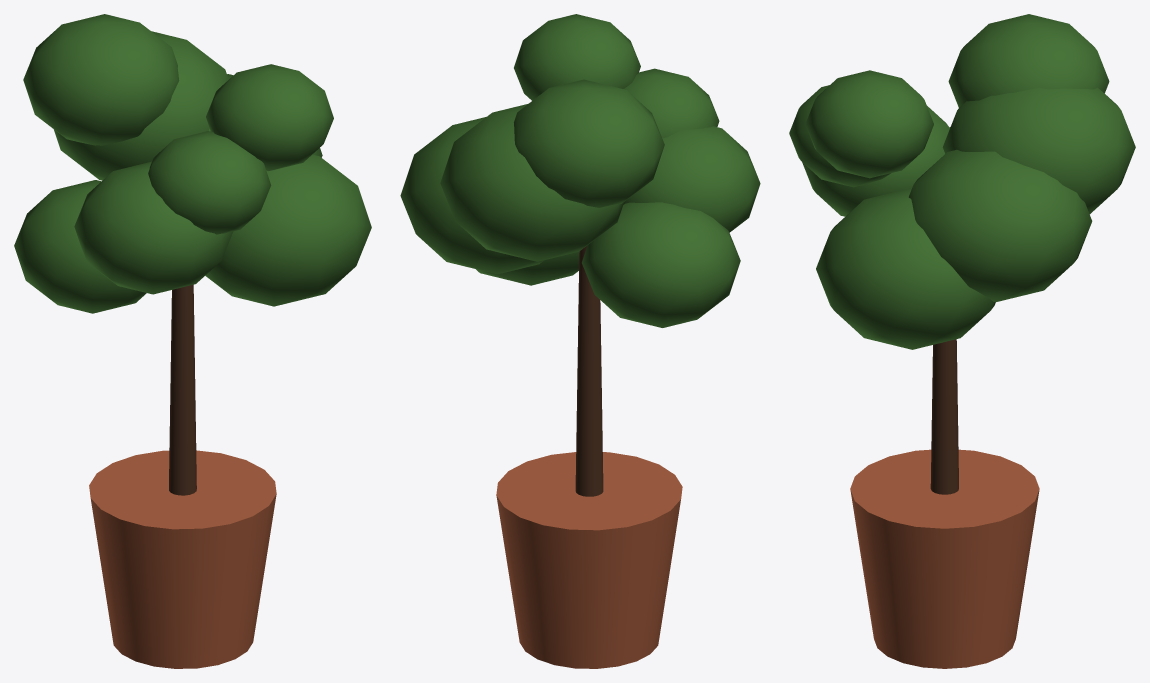
File: plant.glb
3 views of the same model, side by side, from view 1: azimuth 30°, elevation 25°; view 2: azimuth 150°, elevation 25°; view 3: azimuth 270°, elevation 25° (orthographic).
Visible parts, largest first — view 1: plant; view 2: plant; view 3: plant.
Boxes of the visible parts, x1,y1,x2,y2 form: plant: (14, 14, 371, 668); plant: (400, 14, 760, 668); plant: (789, 14, 1135, 668).
Bounding box in the file's own units: 0.7588 × 1.39 × 0.7324.
